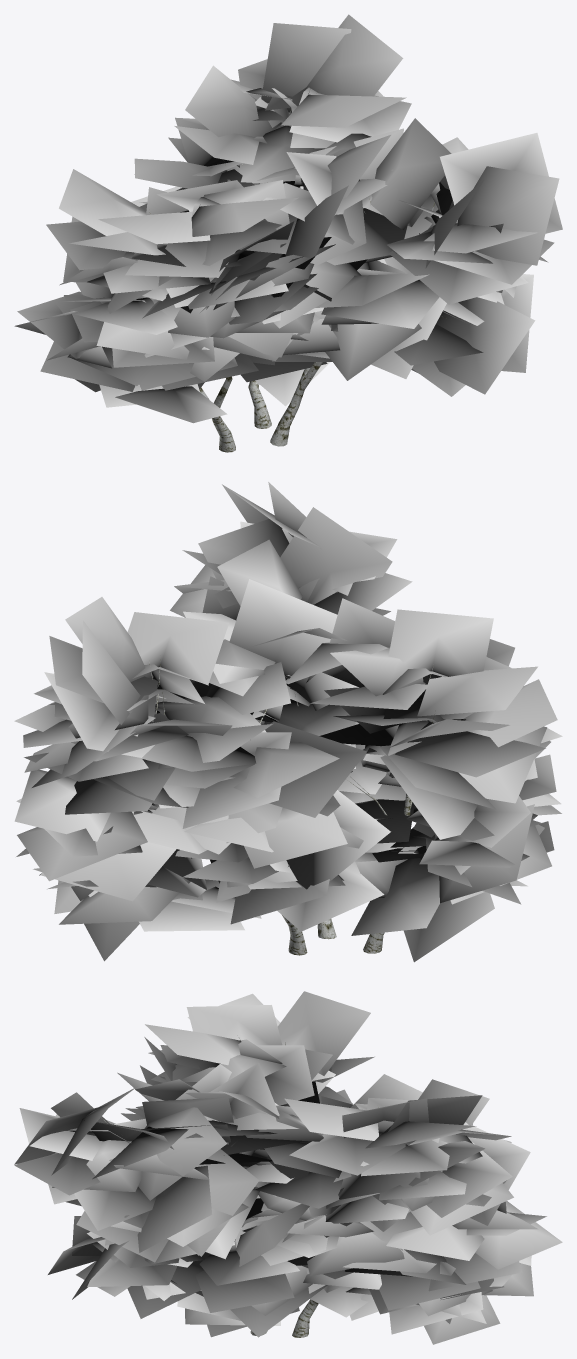
The model's file is flg_tree_02.FBX.
The picture shows the model from 3 angles, top to bottom: view 1: azimuth 30°, elevation 25°; view 2: azimuth 150°, elevation 25°; view 3: azimuth 270°, elevation 25°; orthographic projection. The views are drawn at different scales.
Parts seen in each view (by area): view 1: flg_tree_02_LOD0; view 2: flg_tree_02_LOD0; view 3: flg_tree_02_LOD0.
Boxes of the visible parts, box(x1,y1,x2,y2) form: flg_tree_02_LOD0: box(14, 14, 562, 452); flg_tree_02_LOD0: box(14, 482, 562, 962); flg_tree_02_LOD0: box(14, 991, 562, 1344).
Size of what is drawn, in the model's own units: 1225 by 1426 by 883.
